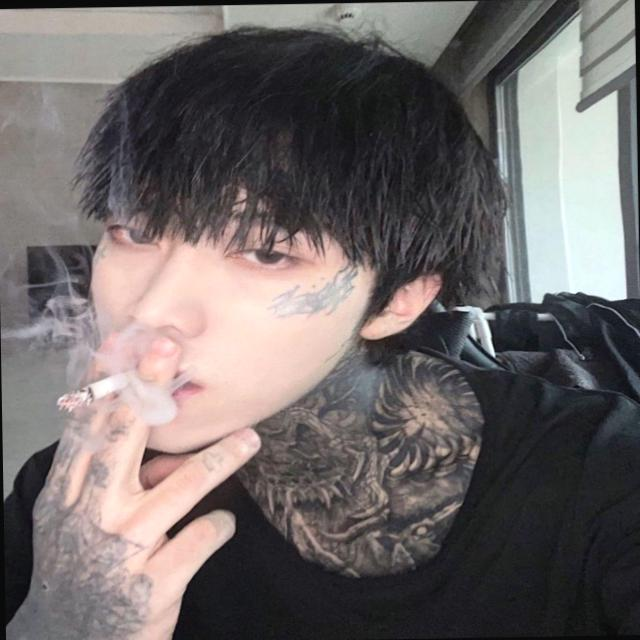smoke: (32, 349, 186, 427)
